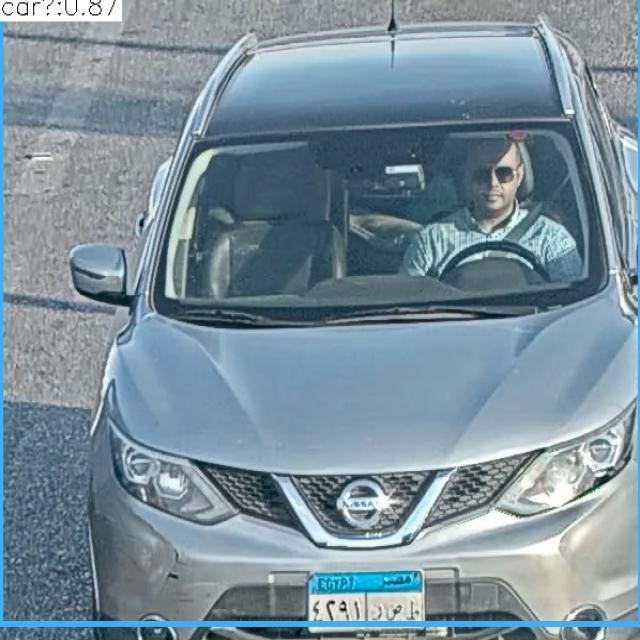windshield: (162, 126, 599, 311)
